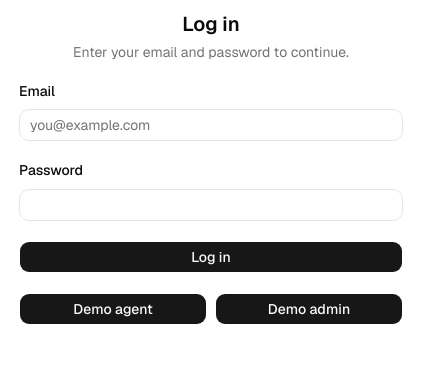
client-side validation › shows an inline error and never submits when email is empty
The width and height of the screenshot is (423, 369).
In the password field labelled "Password": (211, 204) 19,188 -> 403,220, type "whatever123"
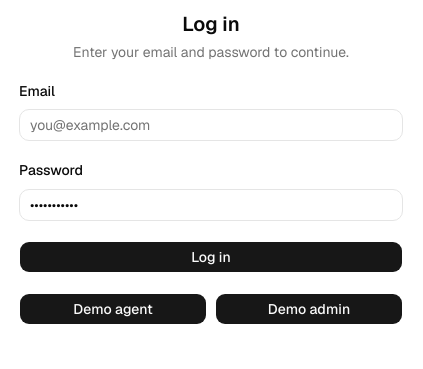
Click the button "Log in": click(211, 256) 19,240 -> 403,272
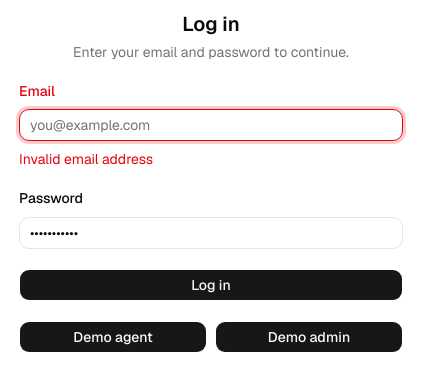
Now the message "Invalid email address" is shown, box 19,150 -> 153,168
